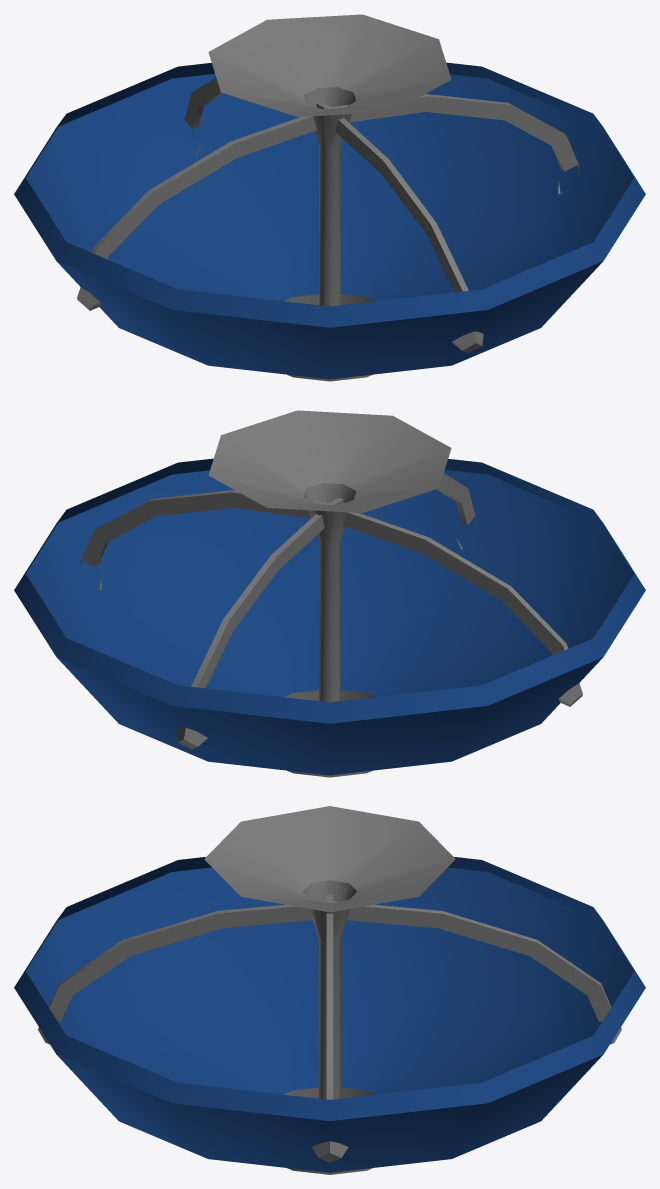
Rendered from light.FBX.
3 renders of one model, top to bottom at view 1: azimuth 30°, elevation 25°; view 2: azimuth 150°, elevation 25°; view 3: azimuth 270°, elevation 25°, orthographic.
Visible parts, largest first — view 1: light; view 2: light; view 3: light.
Part boxes in pixels (box(x1,y1,x2,y2)): light: box(14, 14, 645, 381); light: box(14, 410, 645, 777); light: box(14, 806, 645, 1174).
Size of the model in its own units: 66.96 by 66.96 by 36.
